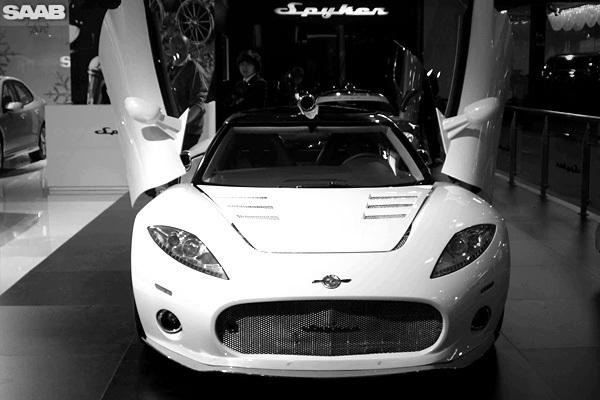car: (96, 3, 519, 385)
